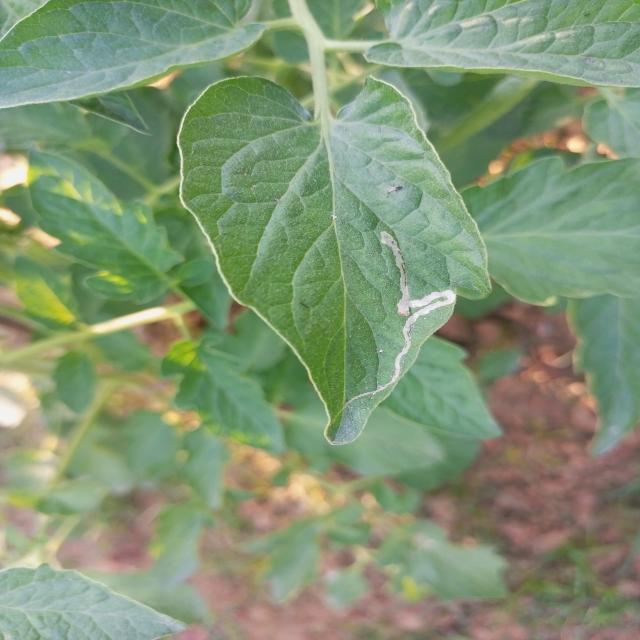Tuta absoluta: (378, 232, 457, 392)
